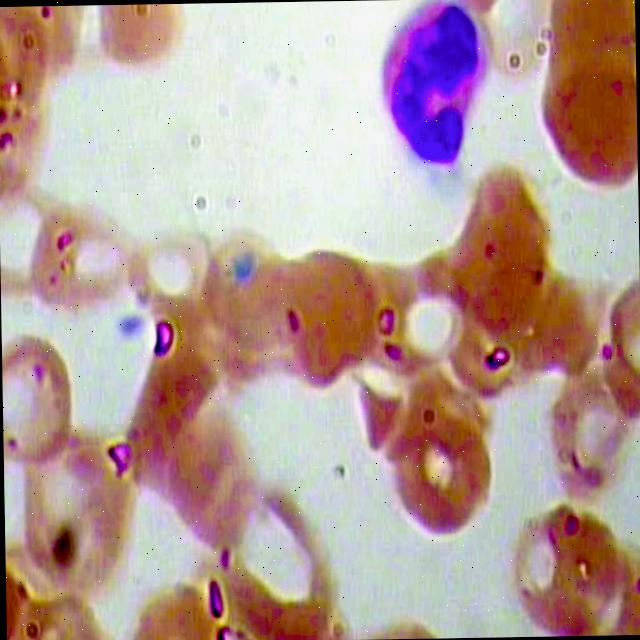RBC: (384, 405, 501, 555), (457, 160, 558, 328), (510, 498, 626, 636), (21, 194, 130, 340), (271, 247, 379, 393), (158, 406, 266, 552), (524, 361, 632, 507), (534, 52, 638, 194), (0, 331, 90, 476), (124, 220, 216, 338), (90, 2, 182, 82)
WBC: (354, 0, 497, 175)
